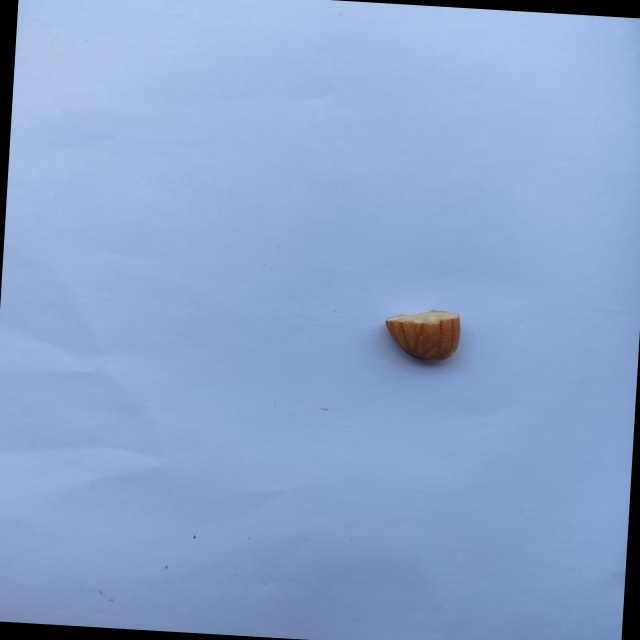grade4: (374, 303, 469, 370)
